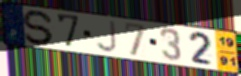2: (187, 31, 217, 68)
3: (159, 27, 184, 63)
7: (55, 12, 81, 50), (123, 21, 147, 58)
J: (94, 19, 119, 53)
S: (21, 9, 56, 47)
